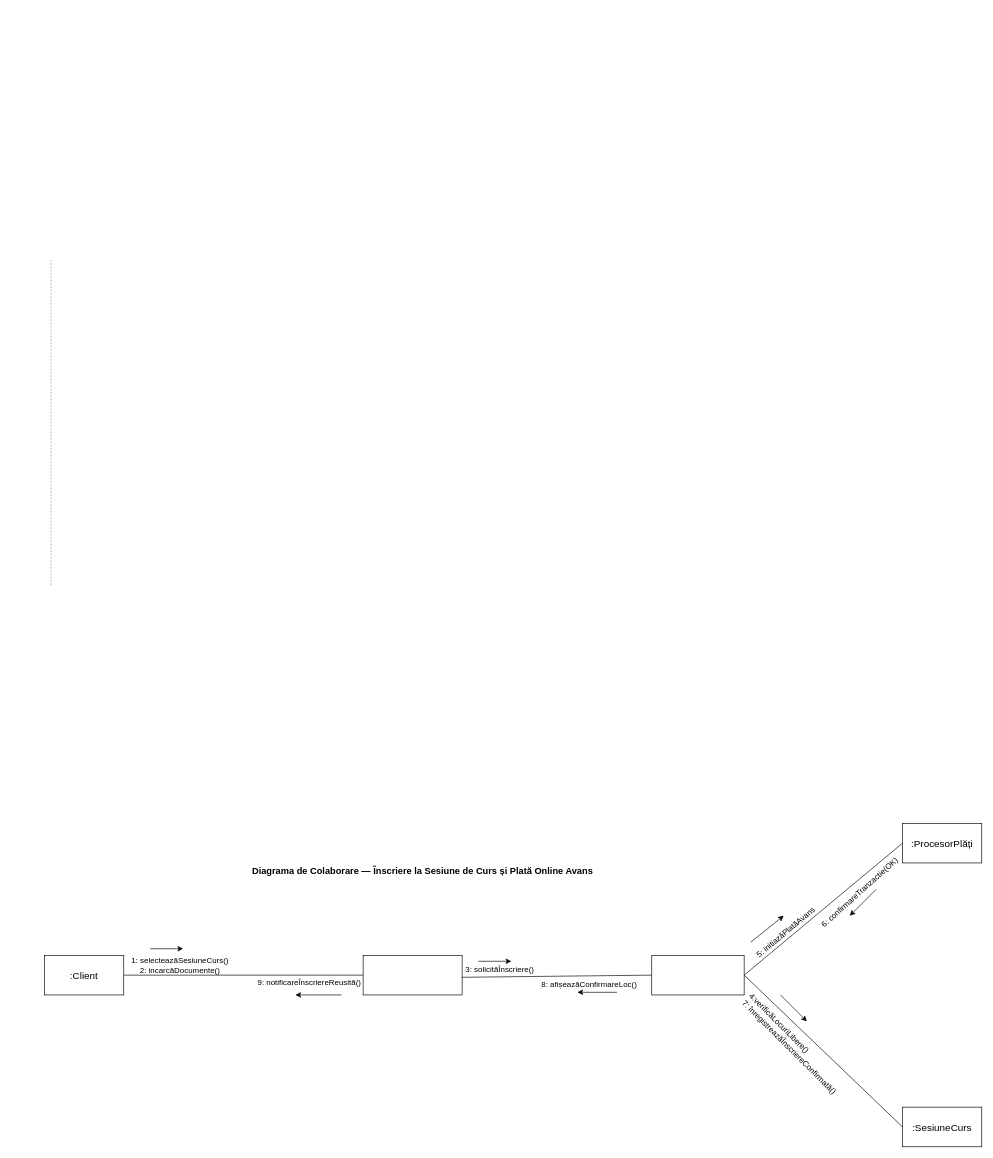
Some shapes in this 993 by 1158 pixel diagram are drawn without their labels. Here are the shapes that lost their labels. From the top down, the box of each, then its label:
(362, 955, 462, 995): :InterfațăÎnscriereCurs
(651, 955, 744, 995): :ControllerAcademie
